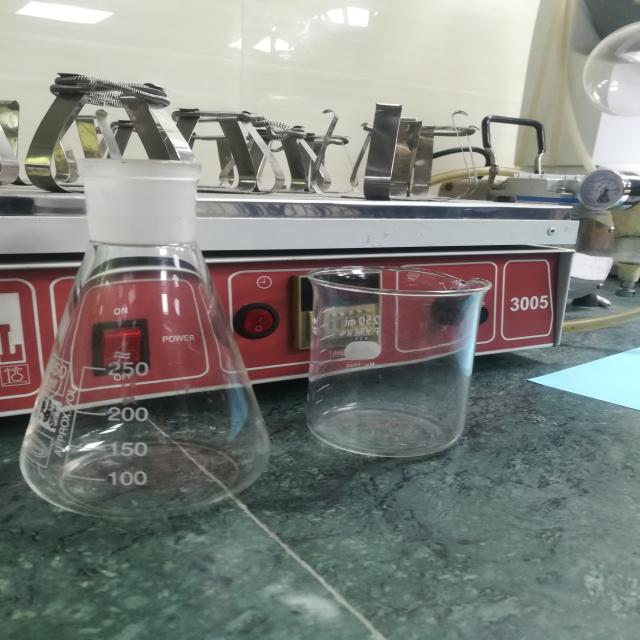Beaker: (300, 194, 520, 484)
Conical_Flask: (11, 147, 282, 533)
